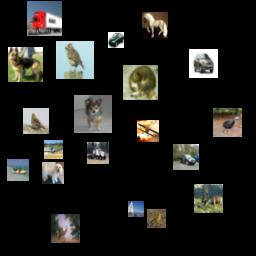airplane: (137, 120, 159, 142), (44, 140, 63, 159)
automobile: (189, 49, 218, 78), (173, 144, 199, 170), (108, 32, 124, 48)
bird: (56, 41, 94, 79), (213, 108, 242, 137), (23, 108, 49, 134), (147, 209, 166, 228)
cat: (123, 65, 158, 100)
deer: (51, 214, 80, 243), (194, 184, 223, 213)
dog: (74, 95, 112, 133), (8, 47, 43, 82), (42, 162, 64, 184)
ship: (7, 159, 29, 181), (128, 201, 144, 217)
truck: (27, 1, 62, 36), (87, 142, 109, 164)
